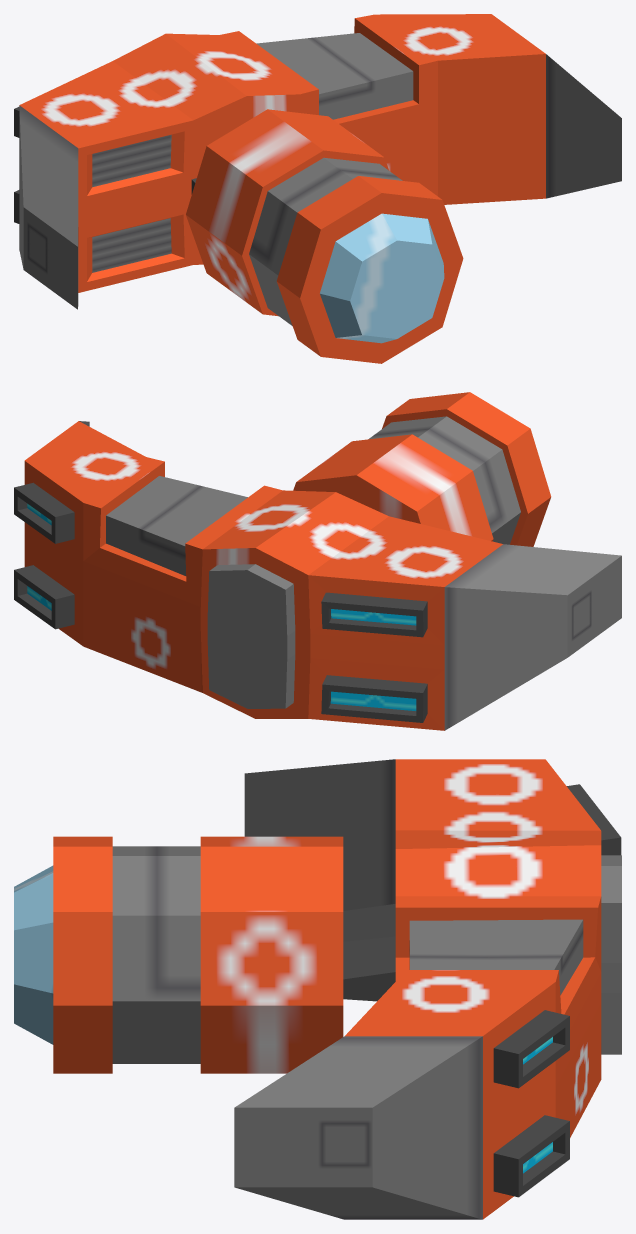
Rendered from Ship09.fbx.
3 views of the same model, one above another, from view 1: azimuth 30°, elevation 25°; view 2: azimuth 150°, elevation 25°; view 3: azimuth 270°, elevation 25° (orthographic). The views are drawn at different scales.
Parts seen in each view (by area): view 1: Ship09; view 2: Ship09; view 3: Ship09.
Boxes of the visible parts, x1,y1,x2,y2 form: Ship09: (14, 14, 621, 363); Ship09: (14, 392, 621, 730); Ship09: (14, 759, 621, 1219).
Bounding box in the file's own units: 588 × 179 × 452.
1 material, 1 textured.
